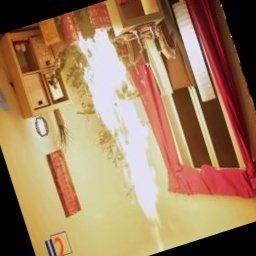fire: (50, 15, 199, 256)
